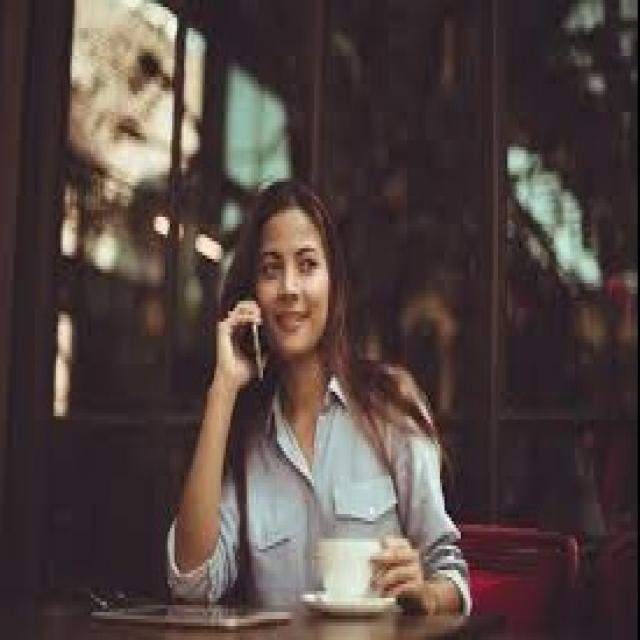phone: (210, 228, 294, 396)
